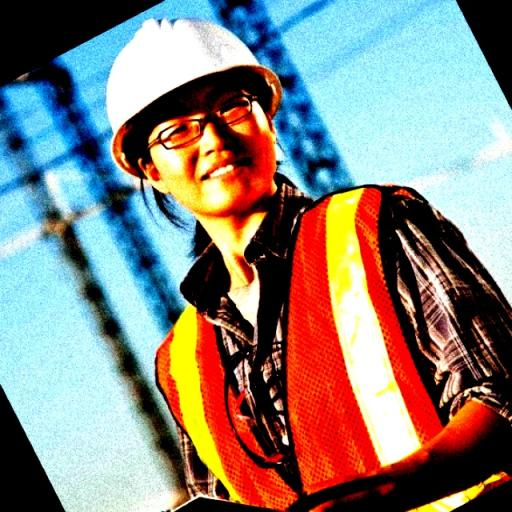Person: (41, 5, 512, 500)
helmet: (89, 16, 282, 130)
vest: (150, 194, 462, 503)
